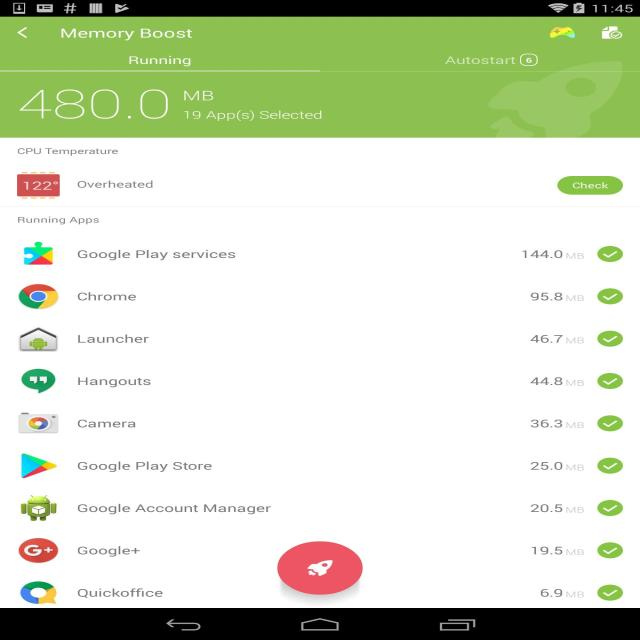button: (327, 48, 631, 72), (13, 51, 317, 72), (275, 540, 365, 595), (560, 176, 623, 194), (594, 21, 634, 47), (542, 24, 582, 45), (7, 22, 45, 40)
heading: (59, 22, 203, 42), (17, 146, 123, 158), (16, 214, 100, 225)
image: (10, 452, 60, 480), (12, 283, 60, 312), (15, 171, 60, 201), (13, 494, 61, 522), (16, 534, 60, 564), (15, 327, 62, 354), (16, 580, 63, 607), (16, 366, 61, 394), (15, 409, 60, 436), (18, 240, 54, 268)
text: (24, 82, 334, 127), (77, 502, 276, 516), (71, 457, 217, 474), (70, 248, 246, 260), (436, 50, 522, 69), (73, 586, 169, 600), (522, 415, 588, 435), (524, 498, 588, 518), (514, 245, 586, 262), (66, 419, 152, 433), (522, 331, 588, 349), (523, 542, 591, 559), (121, 54, 203, 68), (76, 330, 147, 346), (522, 374, 588, 391), (522, 458, 588, 474), (74, 543, 144, 558), (531, 584, 591, 601), (70, 290, 142, 304), (519, 288, 585, 303), (75, 178, 162, 189), (79, 376, 152, 389)
